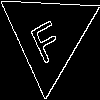F: (23, 10, 67, 66)
